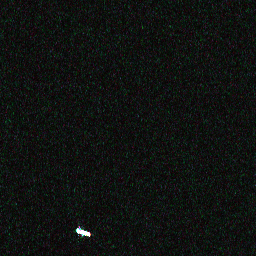ship: (74, 225, 92, 238)
